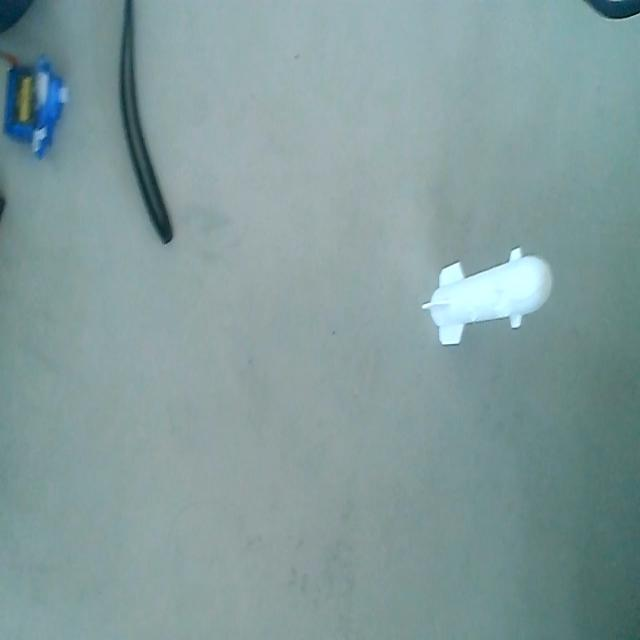Rocket: (423, 248, 557, 354)
